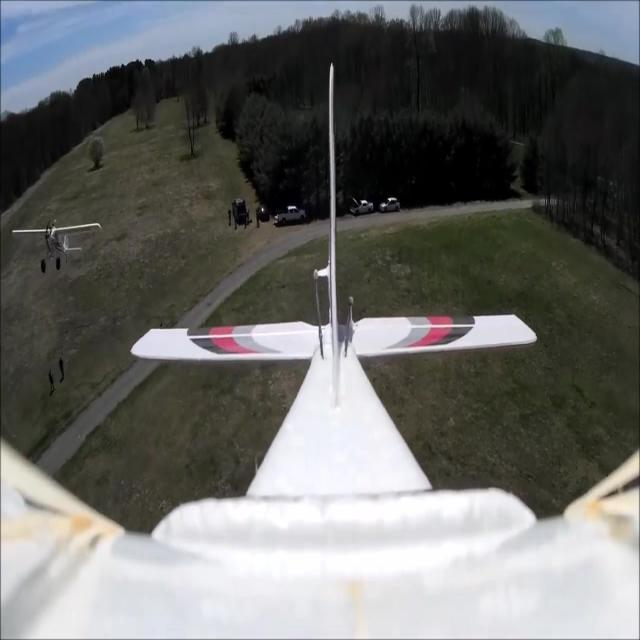iha: (43, 218, 72, 274)
